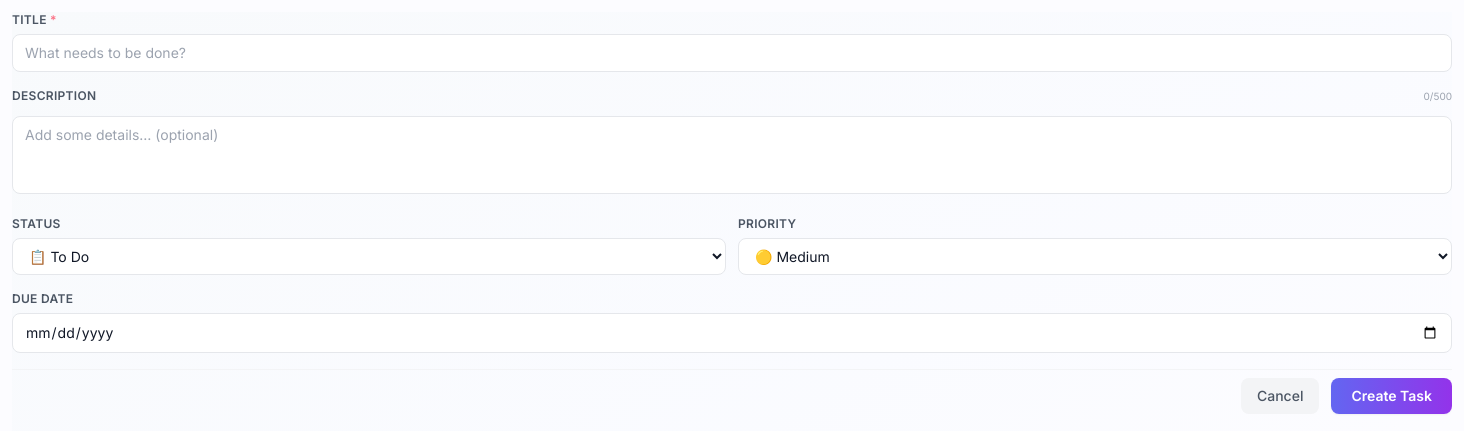
Test case: API error handling (Req 11.10) › shows a toast on API failure and preserves field values
// Use fireEvent.change to avoid character-by-character typing issues
Type "Failing Task" into the field labelled "Title *". click: (732, 53)
box: [12, 34, 1452, 72]
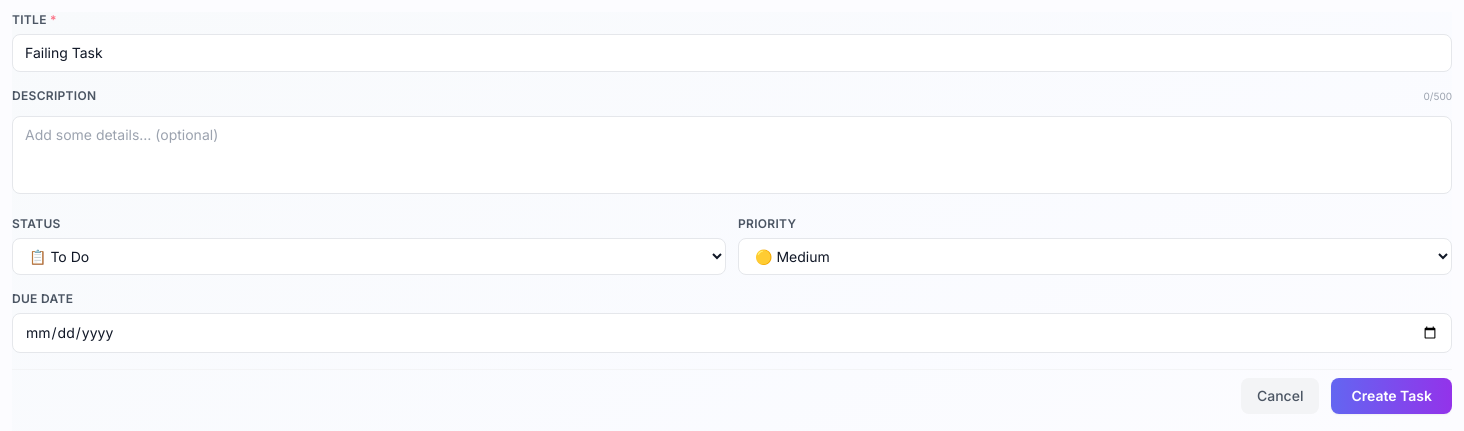
Click the button "Create Task". click: click(1392, 396)
box: [1331, 378, 1452, 414]
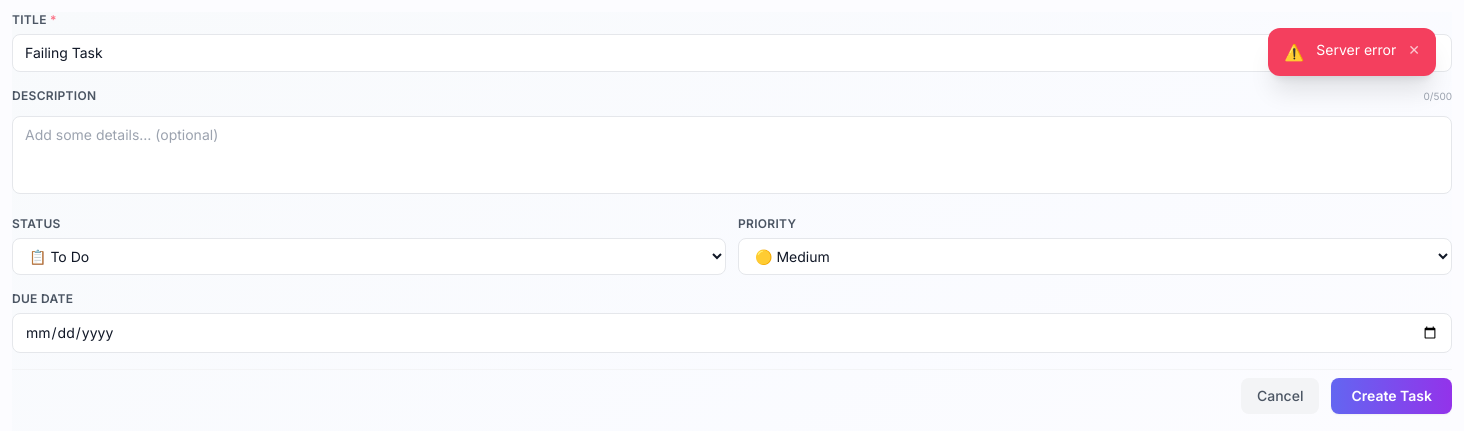
expect the text "Server error" is shown: met, box [1316, 41, 1396, 58]
